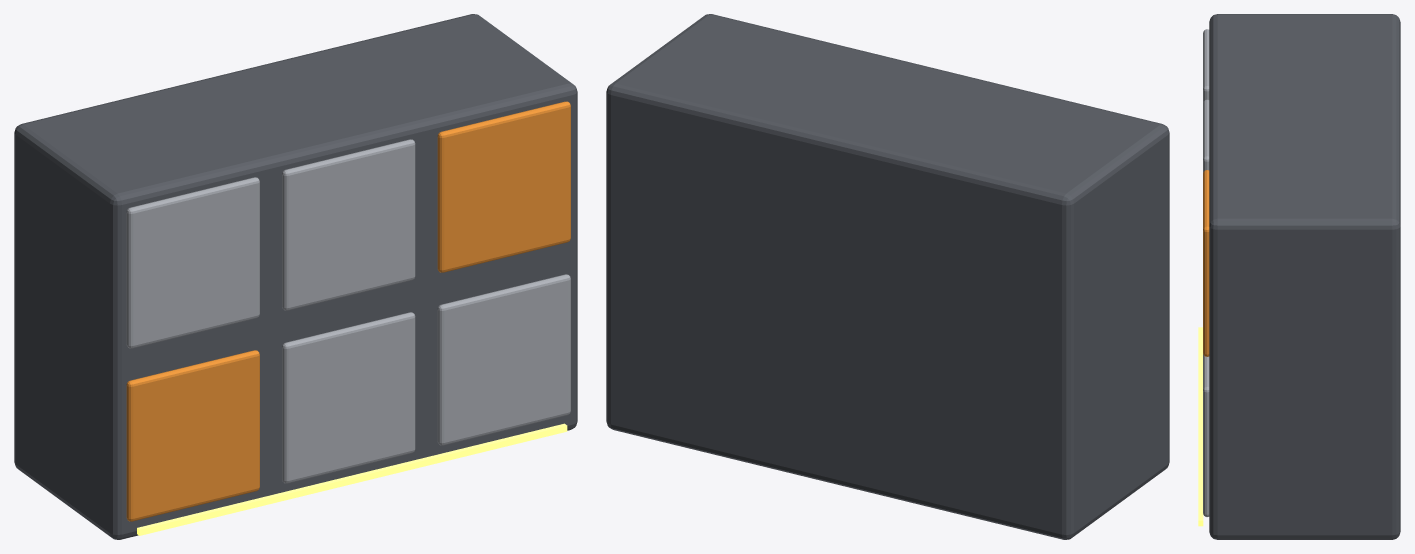
Rendered from dresser_crate_low.glb.
The picture shows the model from 3 angles, left to right: view 1: azimuth 30°, elevation 25°; view 2: azimuth 150°, elevation 25°; view 3: azimuth 270°, elevation 25°; orthographic projection. The views are drawn at different scales.
Visible parts, largest first — view 1: GD_dresser_crate_low__m0, GD_dresser_crate_low__m2, GD_dresser_crate_low__m1, GD_dresser_crate_low__m3; view 2: GD_dresser_crate_low__m0; view 3: GD_dresser_crate_low__m0, GD_dresser_crate_low__m2, GD_dresser_crate_low__m1, GD_dresser_crate_low__m3.
Boxes of the visible parts, x1=… form: GD_dresser_crate_low__m0: x1=14, y1=14, x2=577, y2=539; GD_dresser_crate_low__m2: x1=126, y1=139, x2=570, y2=483; GD_dresser_crate_low__m1: x1=126, y1=101, x2=570, y2=521; GD_dresser_crate_low__m3: x1=137, y1=423, x2=567, y2=535; GD_dresser_crate_low__m0: x1=606, y1=14, x2=1169, y2=539; GD_dresser_crate_low__m0: x1=1209, y1=14, x2=1400, y2=539; GD_dresser_crate_low__m2: x1=1203, y1=29, x2=1209, y2=516; GD_dresser_crate_low__m1: x1=1203, y1=170, x2=1209, y2=356; GD_dresser_crate_low__m3: x1=1198, y1=327, x2=1203, y2=526.
Size of the model in its own units: 1.2 by 0.85 by 0.486.
